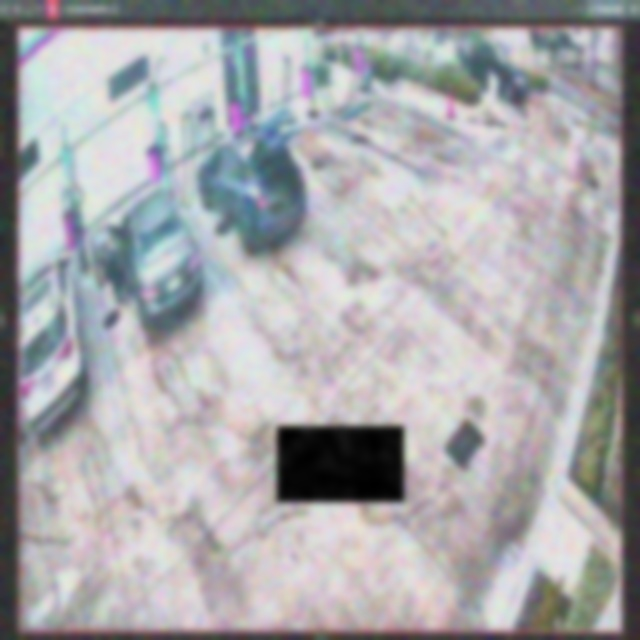Car: (197, 108, 306, 246), (95, 190, 201, 326)
